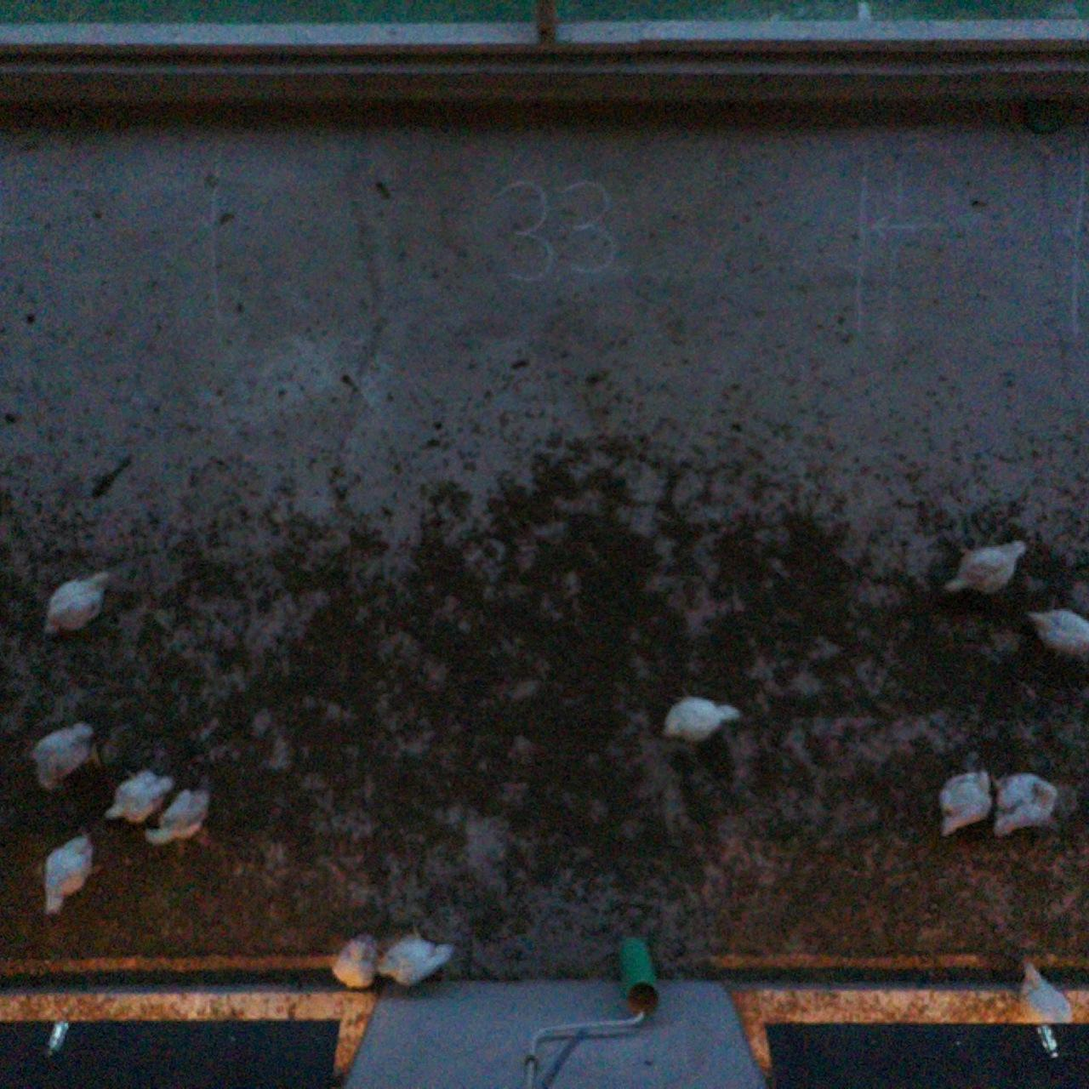chicken: (42, 564, 117, 647), (39, 830, 106, 921), (941, 532, 1030, 599), (30, 713, 103, 794), (985, 763, 1061, 840), (370, 932, 459, 995), (659, 689, 750, 749), (138, 779, 212, 850), (1016, 955, 1080, 1037), (101, 764, 175, 827), (936, 766, 996, 843), (1024, 603, 1089, 658), (328, 929, 384, 992)
